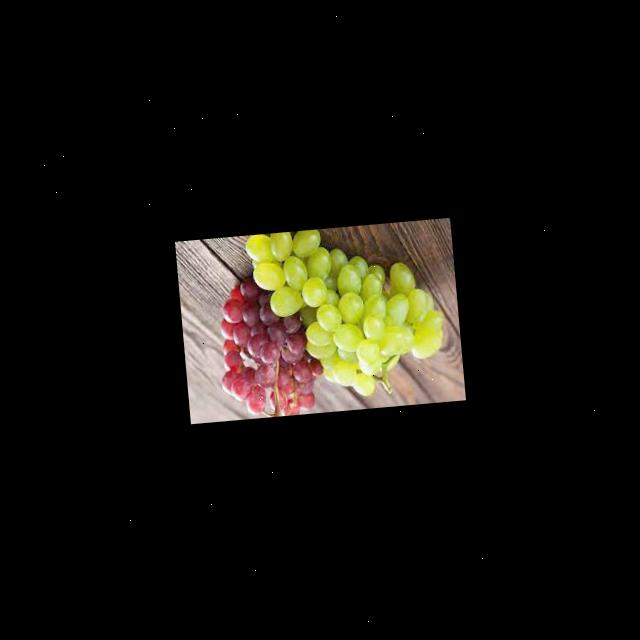grape: (244, 219, 450, 406), (213, 271, 328, 420)
